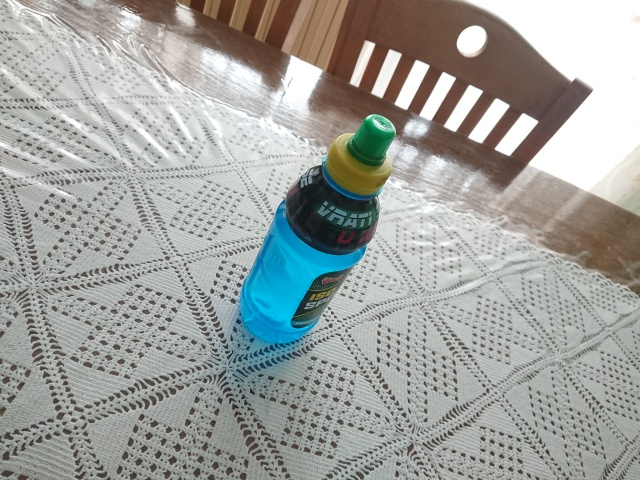Vindi Iso Sport Forest Strawberries 500mL: (236, 111, 400, 347)
